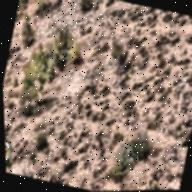boar: (111, 43, 132, 79)
